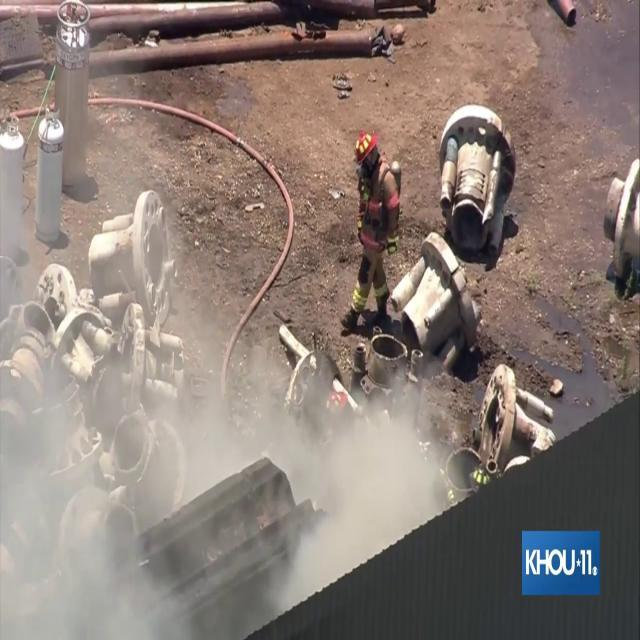Smoke: (2, 287, 236, 634), (281, 362, 452, 611)
